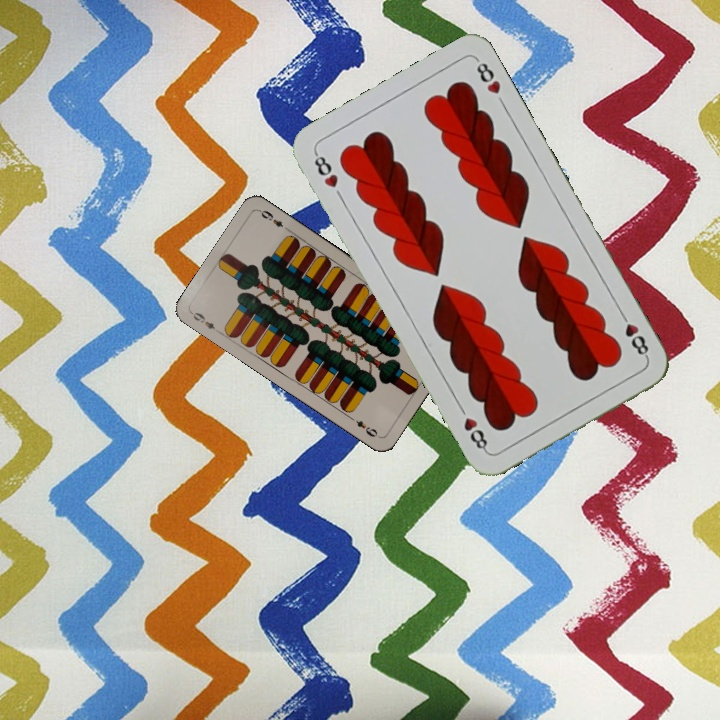E9: (187, 308, 223, 336)
H8: (615, 307, 652, 361), (310, 148, 341, 191)
